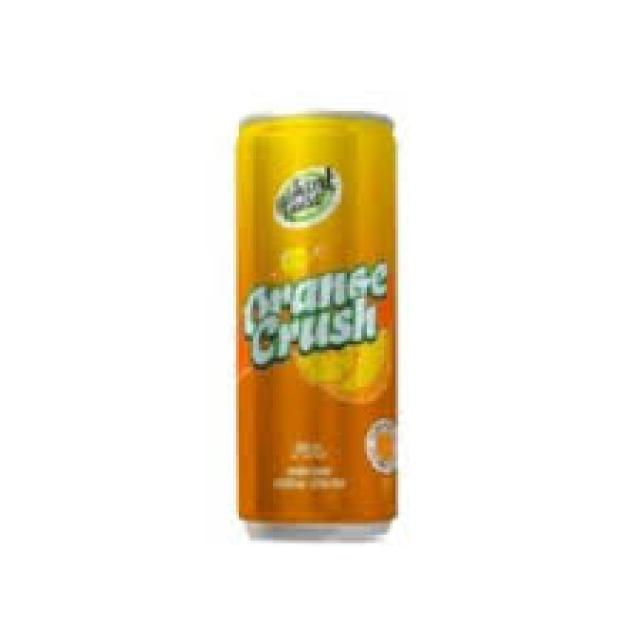Cans: (225, 102, 412, 549)
